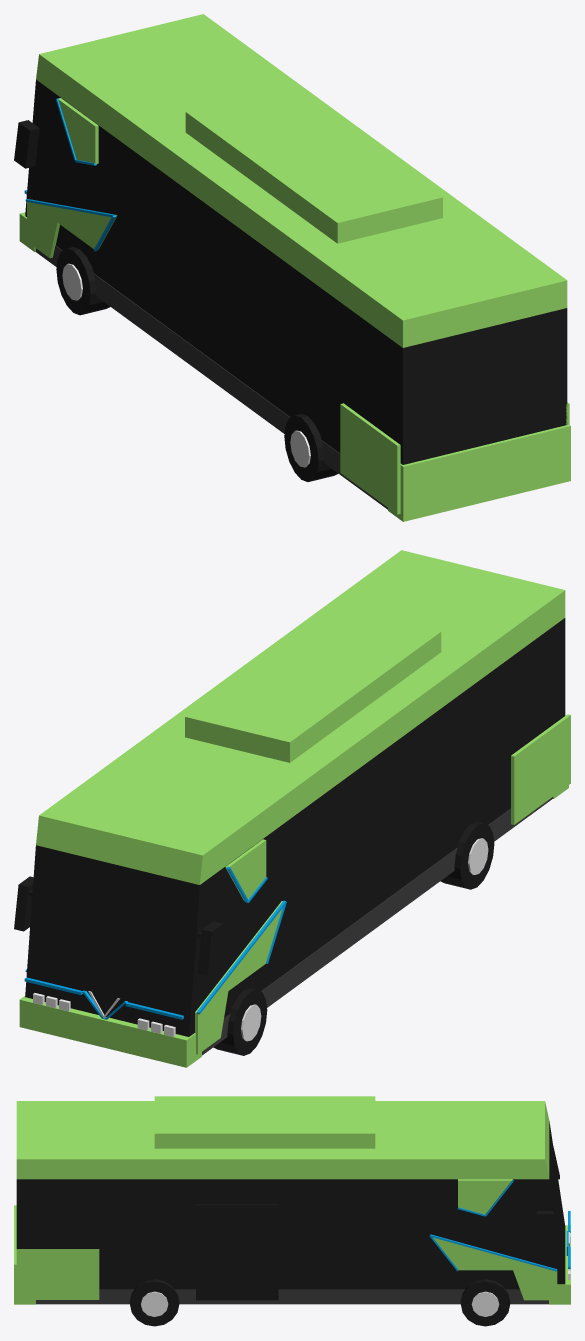
The model's file is VinBus.glb.
3 renders of one model, top to bottom at view 1: azimuth 30°, elevation 25°; view 2: azimuth 150°, elevation 25°; view 3: azimuth 270°, elevation 25°, orthographic. The views are drawn at different scales.
Visible parts, largest first — view 1: BusBody, Wheel_FR, Wheel_RR; view 2: BusBody, Wheel_RR, Wheel_FR; view 3: BusBody, Wheel_RL, Wheel_FL.
Part boxes in pixels (x1,y1,x2,y2): BusBody: [14, 14, 570, 521]; Wheel_FR: [56, 247, 110, 315]; Wheel_RR: [284, 414, 338, 481]; BusBody: [14, 550, 570, 1067]; Wheel_RR: [440, 821, 494, 889]; Wheel_FR: [213, 988, 267, 1055]; BusBody: [14, 1096, 570, 1304]; Wheel_RL: [129, 1279, 179, 1326]; Wheel_FL: [460, 1279, 510, 1326].
Size of the model in its own units: 2.95 by 3.6 by 10.1.
